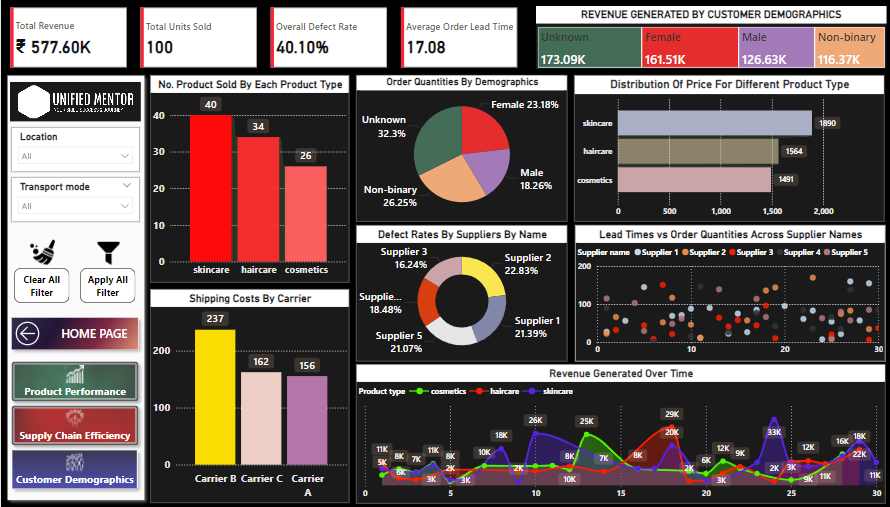

What the dashboard file says about the page in this screenshot:
{"tool":"powerbi","page":{"name":"Summary Dashboard","canvas":[1400,800],"ordinal":4},"visuals":[{"type":"treemap","title":"REVENUE GENERATED BY CUSTOMER DEMOGRAPHICS","fields":{"Values":["Sum(supply_chain_data.Revenue generated)"],"Group":["supply_chain_data.Customer demographics"]},"box":[843.2,9.7,551.9,98.7],"z":0},{"type":"cardVisual","fields":{"Data":["supply_chain_data.Total Revenue","supply_chain_data.Total Units Sold","supply_chain_data.Overall Defect Rate","supply_chain_data.Average Order Lead Time"]},"box":[8.1,0,833.5,118.2],"z":1000},{"type":"shape","box":[1.3,110.7,233.1,686.2],"z":2000},{"type":"image","box":[14.6,129.5,205.5,61.5],"z":3000},{"type":"actionButton","box":[7.9,491.3,217.3,67.7],"z":4000},{"type":"actionButton","box":[7.9,560.6,217.3,80.3],"z":7000},{"type":"barChart","title":"Distribution Of Price For Different Product Type","fields":{"Category":["supply_chain_data.Product type"],"Y":["Sum(supply_chain_data.Price)"]},"box":[903.1,118.2,488.8,231.4],"z":8000},{"type":"actionButton","box":[7.9,699.8,216.7,80],"z":9000},{"type":"actionButton","box":[7.9,629.9,217.3,80.3],"z":11000},{"type":"image","box":[40.6,371.7,48.6,50.2],"z":12000},{"type":"image","box":[144.1,373.3,48.6,50.2],"z":15000},{"type":"shape","box":[21.1,421.9,87.4,55],"z":17000},{"type":"shape","box":[124.7,421.9,87.4,55],"z":18000},{"type":"columnChart","title":"No. Product Sold By Each Product Type","fields":{"Category":["supply_chain_data.Product type"],"Y":["CountNonNull(supply_chain_data.Number of products sold)"]},"box":[234.7,118.2,314,326.9],"z":20500},{"type":"lineChart","title":"Revenue Generated Over Time","fields":{"Y":["Sum(supply_chain_data.Revenue generated)"],"Category":["supply_chain_data.Lead time"],"Series":["supply_chain_data.Product type"]},"box":[558.4,572.9,833.5,220.1],"z":21000},{"type":"clusteredColumnChart","title":"Shipping Costs By Carrier","fields":{"Category":["supply_chain_data.Shipping carriers"],"Y":["Sum(supply_chain_data.Shipping costs)"]},"box":[234.7,454.8,314,336.6],"z":21500},{"type":"scatterChart","title":"Lead Times vs Order Quantities Across Supplier Names","fields":{"Series":["supply_chain_data.Supplier name"],"Y":["Sum(supply_chain_data.Order quantities)"],"X":["supply_chain_data.Lead times"]},"box":[903.7,354.6,488.8,215.3],"z":22000},{"type":"donutChart","title":"Defect Rates By Suppliers By Name ","fields":{"Category":["supply_chain_data.Supplier name"],"Y":["Sum(supply_chain_data.Defect rates)"]},"box":[559,354.6,333.4,215.3],"z":22500},{"type":"pieChart","title":"Order Quantities  By Demographics","fields":{"Y":["Sum(supply_chain_data.Order quantities)"],"Series":["supply_chain_data.Customer demographics"]},"box":[558.4,118.2,333.4,231.4],"z":23000},{"type":"slicer","fields":{"Values":["supply_chain_data.Location"]},"box":[15.7,200,203.1,70.9],"z":23001},{"type":"slicer","fields":{"Values":["supply_chain_data.Transportation modes","supply_chain_data.Routes"]},"box":[15.7,278.7,203.1,70.9],"z":23002}]}

Visuals, with their boxes in screenshot pixels (x1, y1, x2, y2), scaled from the page's 1400x800 canvas onto the 890x507 screenshot:
"REVENUE GENERATED BY CUSTOMER DEMOGRAPHICS" treemap: (x1=536, y1=6, x2=887, y2=69)
cardVisual - supply_chain_data.Total Revenue x supply_chain_data.Total Units Sold: (x1=5, y1=0, x2=535, y2=75)
shape: (x1=1, y1=70, x2=149, y2=505)
image: (x1=9, y1=82, x2=140, y2=121)
actionButton: (x1=5, y1=311, x2=143, y2=354)
actionButton: (x1=5, y1=355, x2=143, y2=406)
"Distribution Of Price For Different Product Type" barChart: (x1=574, y1=75, x2=885, y2=222)
actionButton: (x1=5, y1=443, x2=143, y2=494)
actionButton: (x1=5, y1=399, x2=143, y2=450)
image: (x1=26, y1=236, x2=57, y2=267)
image: (x1=92, y1=237, x2=123, y2=268)
shape: (x1=13, y1=267, x2=69, y2=302)
shape: (x1=79, y1=267, x2=135, y2=302)
"No. Product Sold By Each Product Type" columnChart: (x1=149, y1=75, x2=349, y2=282)
"Revenue Generated Over Time" lineChart: (x1=355, y1=363, x2=885, y2=503)
"Shipping Costs By Carrier" clusteredColumnChart: (x1=149, y1=288, x2=349, y2=502)
"Lead Times vs Order Quantities Across Supplier Names" scatterChart: (x1=574, y1=225, x2=885, y2=361)
"Defect Rates By Suppliers By Name " donutChart: (x1=355, y1=225, x2=567, y2=361)
"Order Quantities  By Demographics" pieChart: (x1=355, y1=75, x2=567, y2=222)
slicer - supply_chain_data.Location: (x1=10, y1=127, x2=139, y2=172)
slicer - supply_chain_data.Transportation modes x supply_chain_data.Routes: (x1=10, y1=177, x2=139, y2=222)
